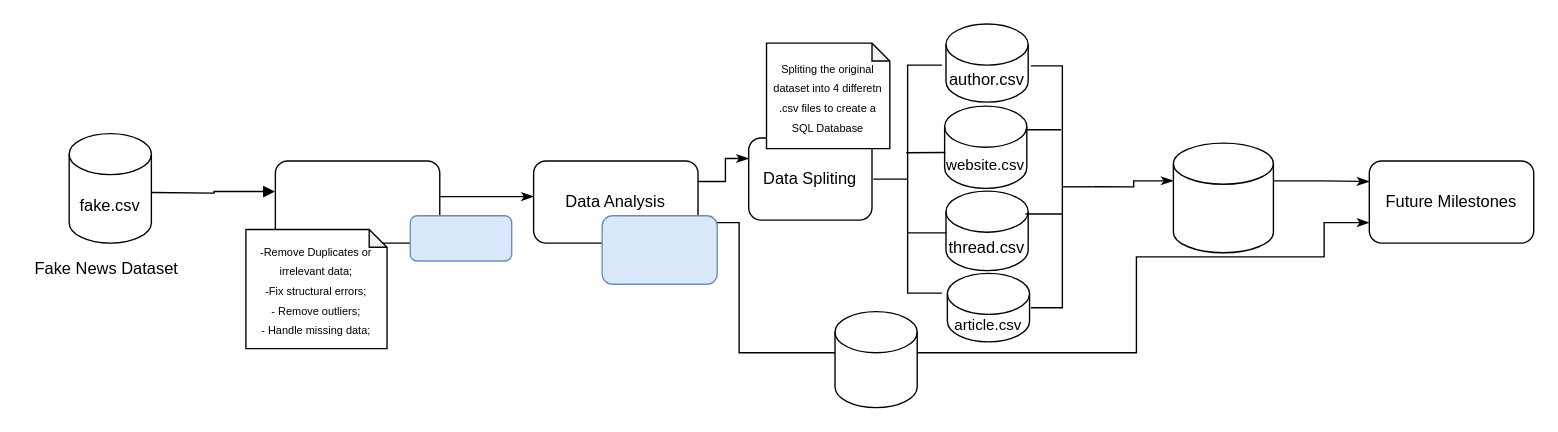
The diagram is 1558 pixels wide and 432 high, and some of its shapes have lost their labels. The box of each missing label's shape, as (x1, y1, x2, y2) in pixels:
Data Cleaning: (274, 160, 440, 243)
fake.sql: (1172, 142, 1273, 253)
fake_clean .csv: (834, 310, 917, 408)
Python (Pandas and MatplotLib): (601, 214, 717, 284)
Python (Pandas): (409, 214, 512, 261)
